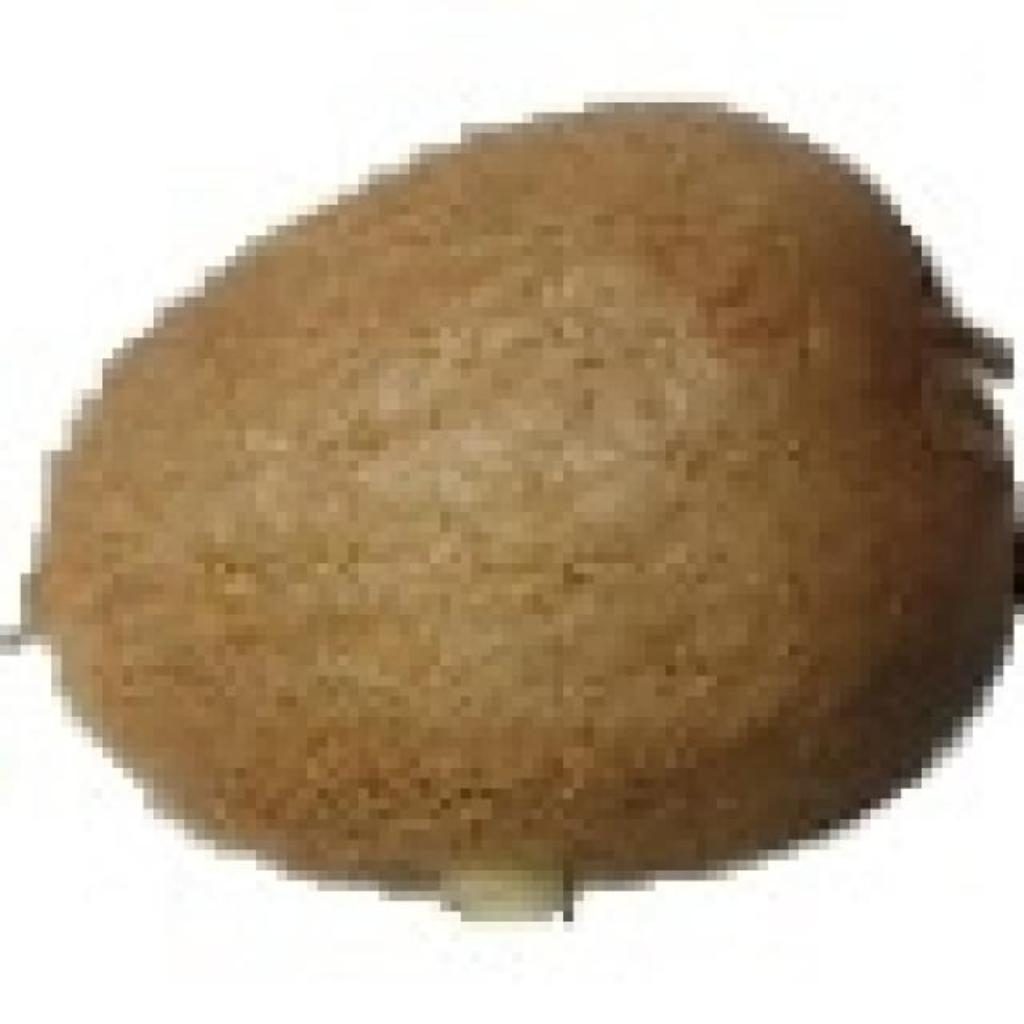kiwi: (31, 92, 993, 891)
